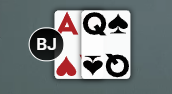a: (53, 10, 82, 38)
q: (81, 10, 109, 38)
